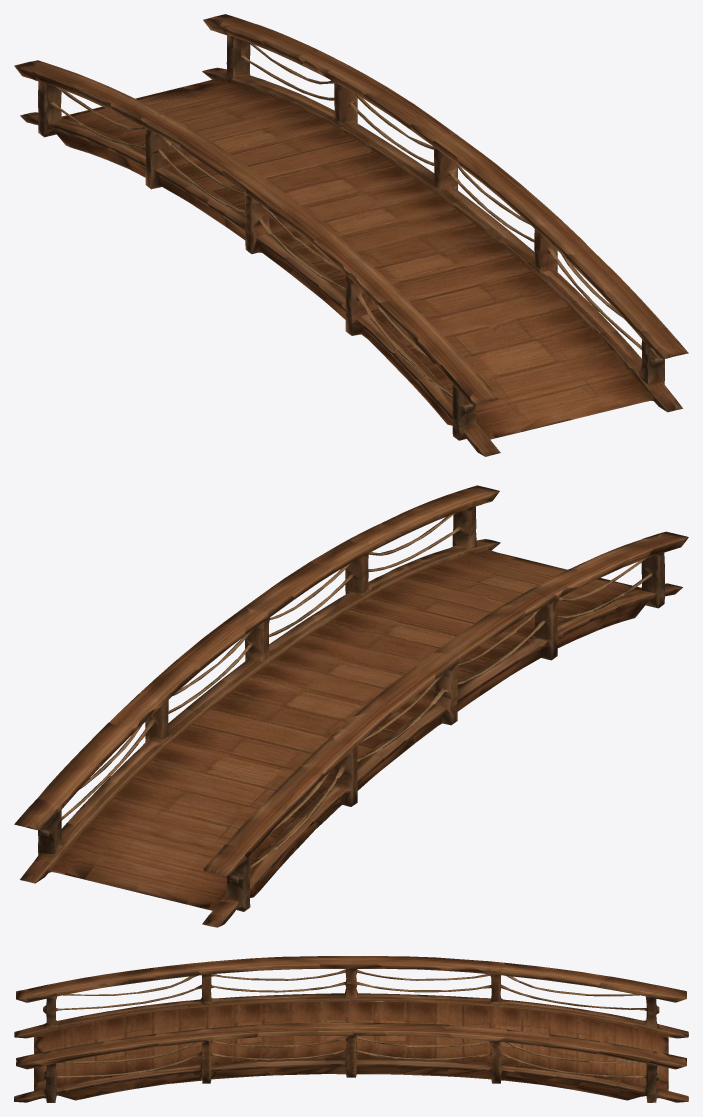
3 renders of one model, top to bottom at view 1: azimuth 30°, elevation 25°; view 2: azimuth 150°, elevation 25°; view 3: azimuth 270°, elevation 25°, orthographic. The views are drawn at different scales.
Visible parts, largest first — view 1: geometry_0; view 2: geometry_0; view 3: geometry_0.
Part boxes in pixels (x1,y1,x2,y2): geometry_0: (14, 14, 688, 456); geometry_0: (14, 485, 688, 927); geometry_0: (14, 956, 688, 1102).
Bounding box in the file's own units: 3.33 × 1.54 × 12.67.
Materials: 1 (1 with a texture image).
